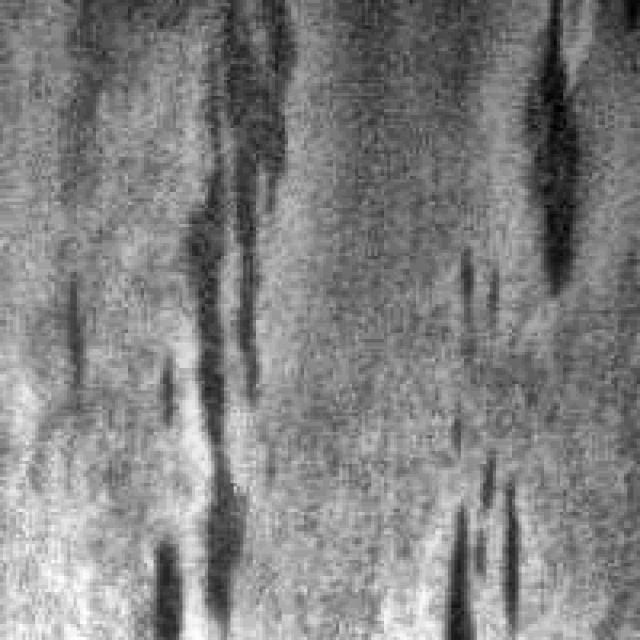Patches: (141, 0, 285, 634), (506, 0, 598, 304), (432, 420, 541, 630), (29, 32, 134, 215), (138, 528, 192, 634)
